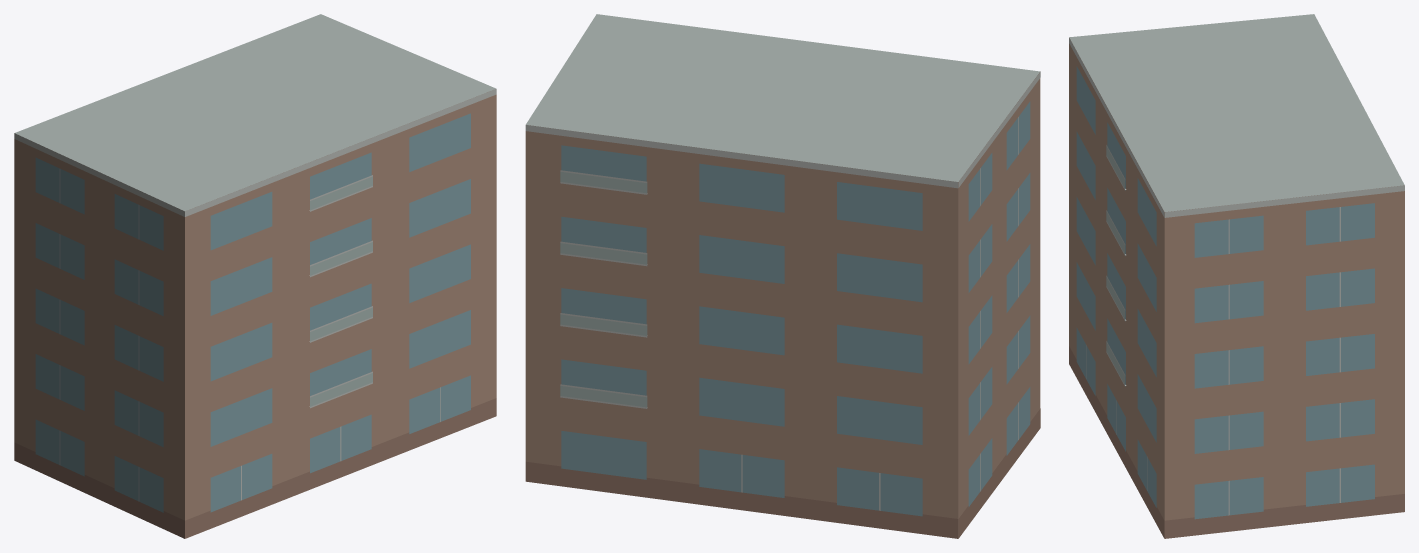
File: survey-upis-32815104.glb
3 views of the same model, side by side, from view 1: azimuth 30°, elevation 25°; view 2: azimuth 150°, elevation 25°; view 3: azimuth 270°, elevation 25° (orthographic). The views are drawn at different scales.
Parts seen in each view (by area): view 1: survey-upis-32815104.tmp; view 2: survey-upis-32815104.tmp; view 3: survey-upis-32815104.tmp.
Boxes of the visible parts, box(x1,y1,x2,y2) form: survey-upis-32815104.tmp: box(14, 14, 496, 538); survey-upis-32815104.tmp: box(525, 14, 1040, 538); survey-upis-32815104.tmp: box(1069, 14, 1404, 538).
Bounding box in the file's own units: 17.96 × 13.8 × 12.86.
